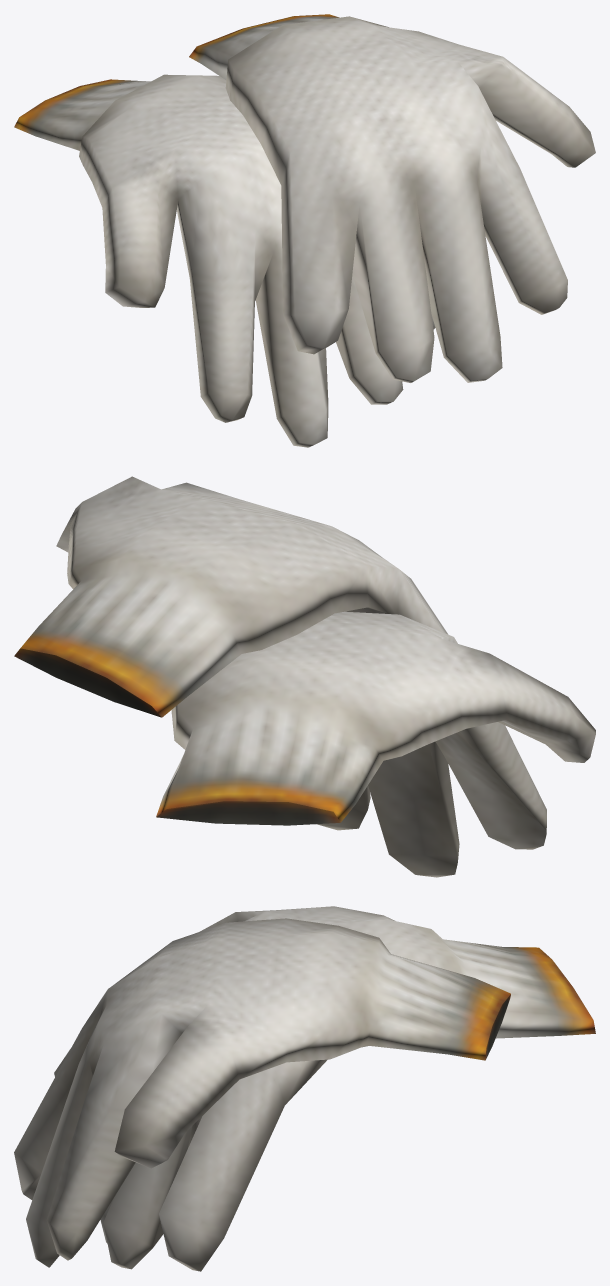
File: BaoLuoGongZuoShi_01_shoutao_02_uv2.FBX
3 renders of one model, top to bottom at view 1: azimuth 30°, elevation 25°; view 2: azimuth 150°, elevation 25°; view 3: azimuth 270°, elevation 25°, orthographic. The views are drawn at different scales.
Visible parts, largest first — view 1: polySurface3; view 2: polySurface3; view 3: polySurface3.
Part boxes in pixels (bbox=[...]): polySurface3: bbox=[14, 14, 595, 447]; polySurface3: bbox=[14, 476, 595, 877]; polySurface3: bbox=[14, 906, 595, 1271].
Bounding box in the file's own units: 141 × 93.45 × 137.
